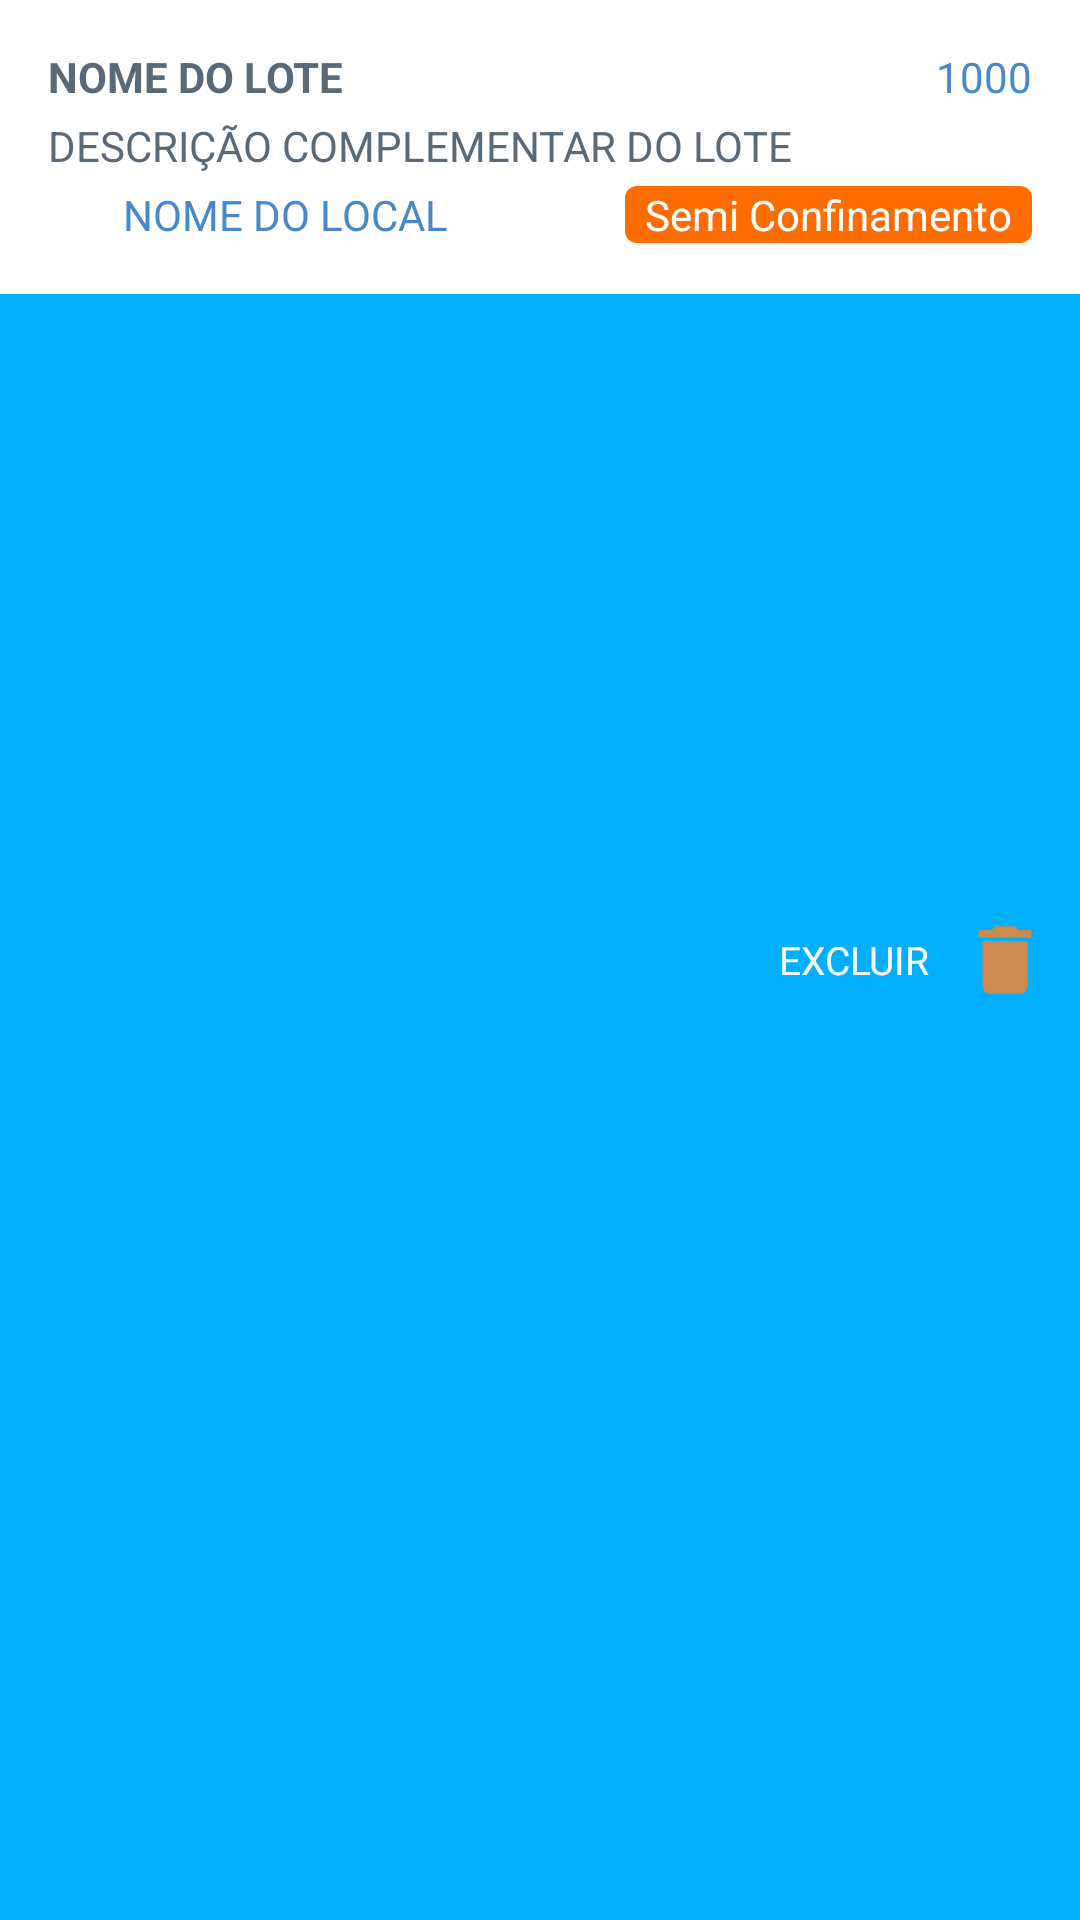

Screen size 1080w x 1920h. Icon name, then its center in pixels as (x,y):
delete: (1005,960)
